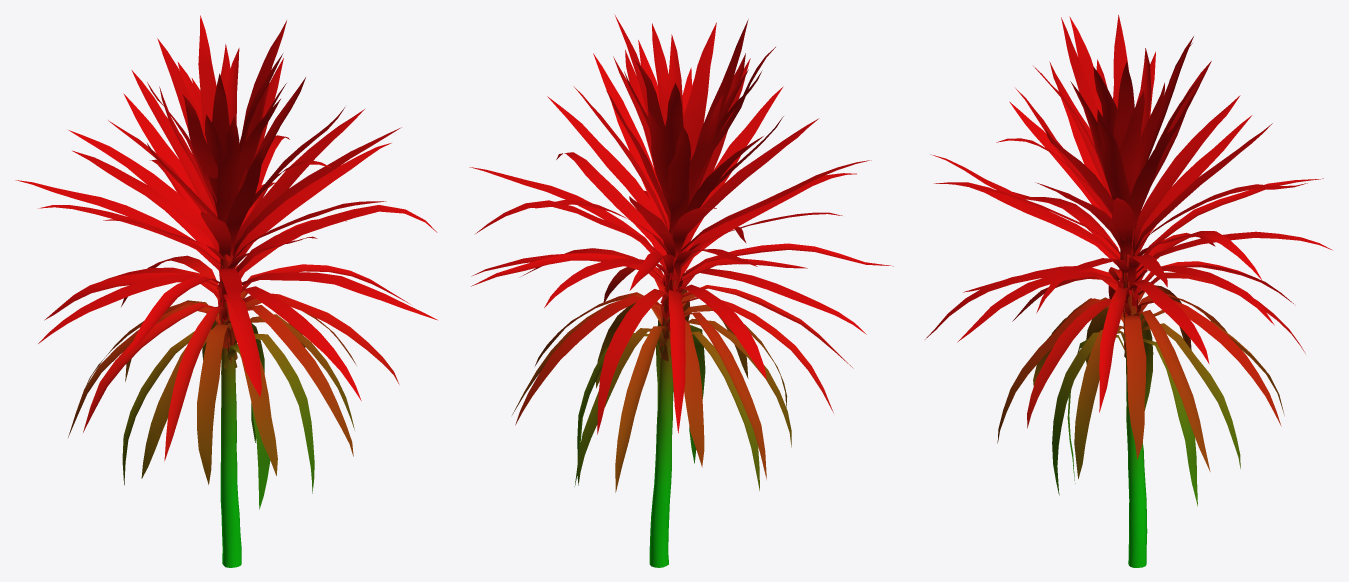
The model's file is SM_Palm02_LOD1.fbx.
3 views of the same model, side by side, from view 1: azimuth 30°, elevation 25°; view 2: azimuth 150°, elevation 25°; view 3: azimuth 270°, elevation 25° (orthographic).
Parts seen in each view (by area): view 1: _t8hz_Var2_LOD3; view 2: _t8hz_Var2_LOD3; view 3: _t8hz_Var2_LOD3.
Part boxes in pixels (x1,y1,x2,y2): _t8hz_Var2_LOD3: [15, 15, 437, 567]; _t8hz_Var2_LOD3: [469, 14, 893, 567]; _t8hz_Var2_LOD3: [925, 15, 1332, 567].
Size of the model in its own units: 119 by 162 by 114.
